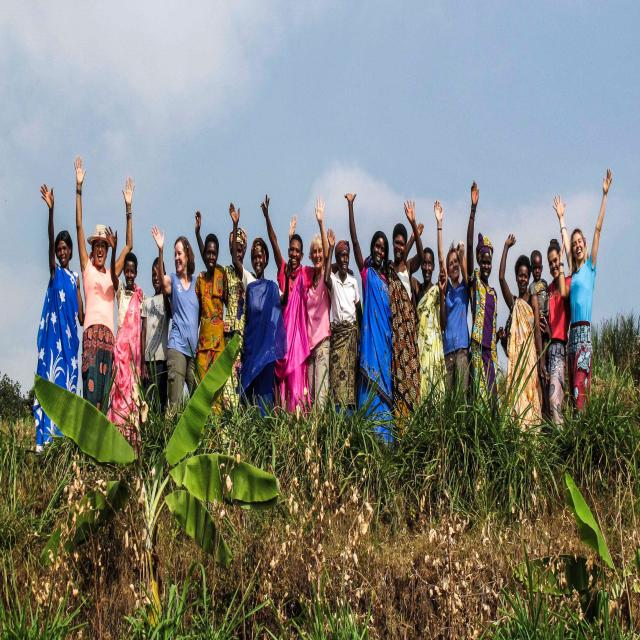body: (260, 193, 354, 421), (344, 190, 424, 452), (73, 155, 136, 419), (194, 209, 258, 455), (552, 167, 613, 425), (34, 181, 86, 459), (228, 201, 288, 419), (498, 232, 547, 446), (104, 222, 148, 460), (151, 226, 206, 410), (385, 198, 425, 440), (466, 178, 504, 421), (193, 232, 230, 454), (323, 225, 362, 424), (433, 198, 470, 402), (539, 231, 573, 439), (410, 246, 448, 424), (301, 196, 331, 420), (140, 256, 172, 417), (528, 249, 550, 381)
